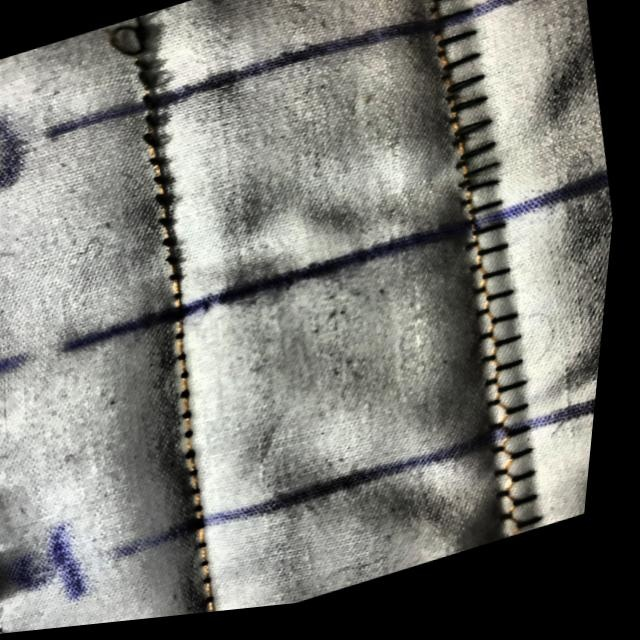Stitch: (74, 2, 222, 264)
